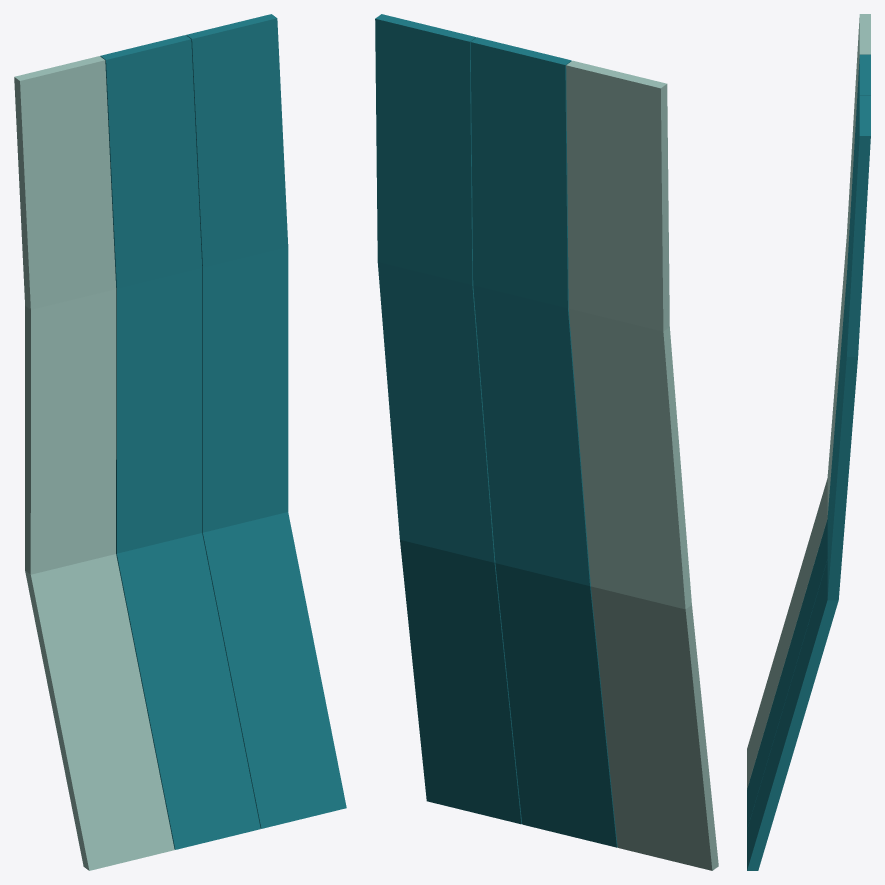
File: PirateCove_WaterfallCurtain_Simple.glb
3 renders of one model, left to right at view 1: azimuth 30°, elevation 25°; view 2: azimuth 150°, elevation 25°; view 3: azimuth 270°, elevation 25°, orthographic. The views are drawn at different scales.
Visible parts, largest first — view 1: PirateCove_WaterfallCurtain_Simple; view 2: PirateCove_WaterfallCurtain_Simple; view 3: PirateCove_WaterfallCurtain_Simple.
Boxes of the visible parts, <box> form: PirateCove_WaterfallCurtain_Simple: <box>14,14,346,870</box>; PirateCove_WaterfallCurtain_Simple: <box>375,14,718,870</box>; PirateCove_WaterfallCurtain_Simple: <box>747,14,870,870</box>.
Bounding box in the file's own units: 1.92 × 5 × 0.77.
